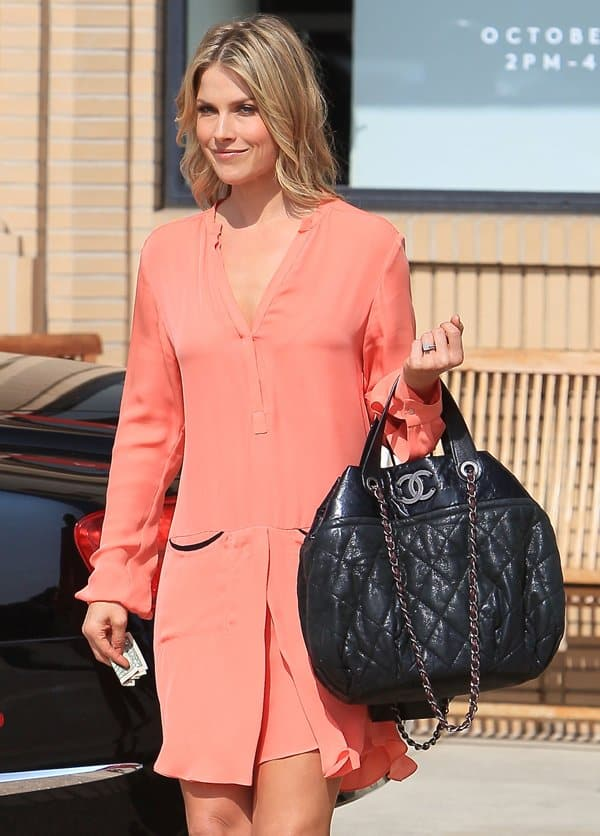channel: (282, 463, 562, 727), (370, 463, 413, 650), (386, 469, 445, 514)
